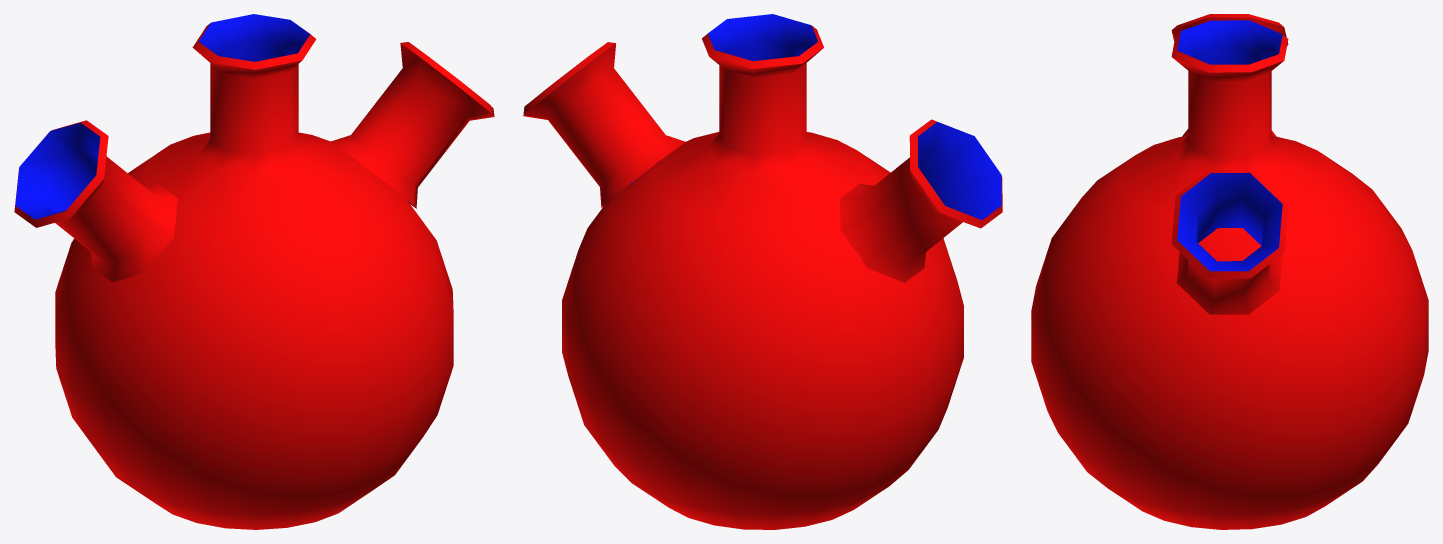
The model's file is Bulb.FBX.
3 views of the same model, side by side, from view 1: azimuth 30°, elevation 25°; view 2: azimuth 150°, elevation 25°; view 3: azimuth 270°, elevation 25° (orthographic).
Visible parts, largest first — view 1: Sphere019; view 2: Sphere019; view 3: Sphere019.
Part boxes in pixels (x1,y1,x2,y2): Sphere019: (14, 14, 494, 529); Sphere019: (523, 14, 1002, 529); Sphere019: (1031, 14, 1428, 529).
Bounding box in the file's own units: 6.09 × 5.66 × 4.61.
